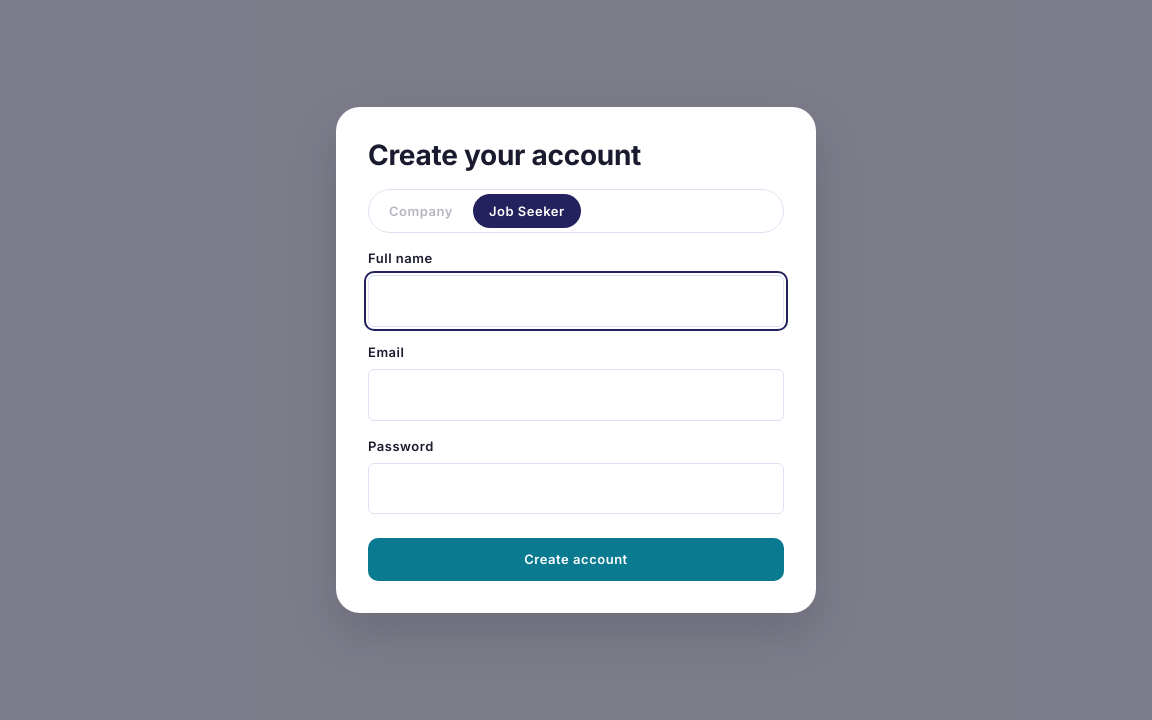
Scenario: ApplyGateModal › maps a server 400 errors entry onto the matching field
Type "Amara Diallo" into the field labelled "Full name". click: (576, 301)
box: [368,275,784,327]
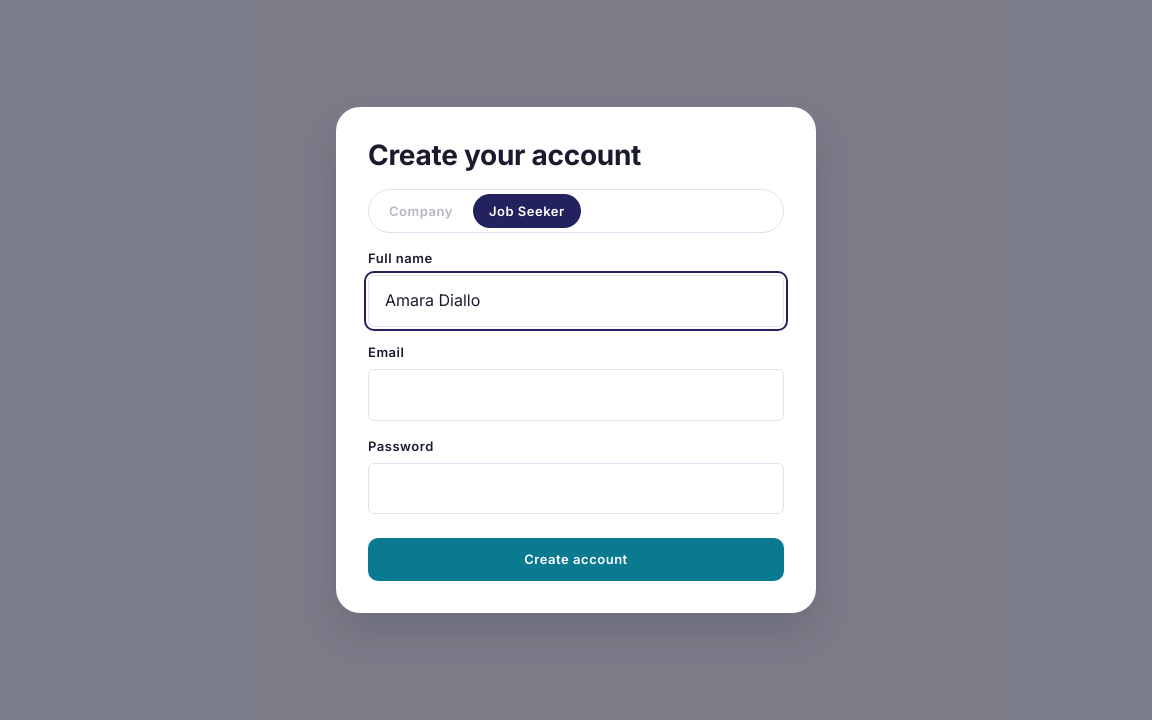
Type "blocked@seeker.test" into the field labelled "Email". click: (576, 395)
box: [368,369,784,421]
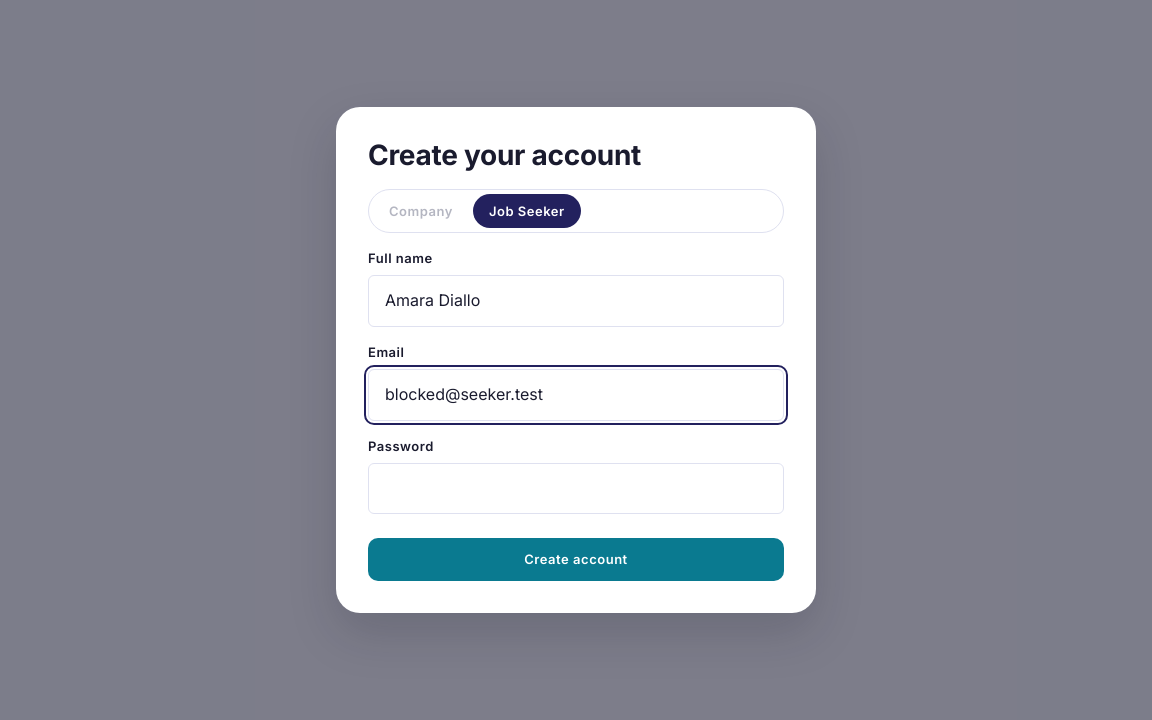
Type "password123" into the password field labelled "Password". click: (576, 489)
box: [368,463,784,514]
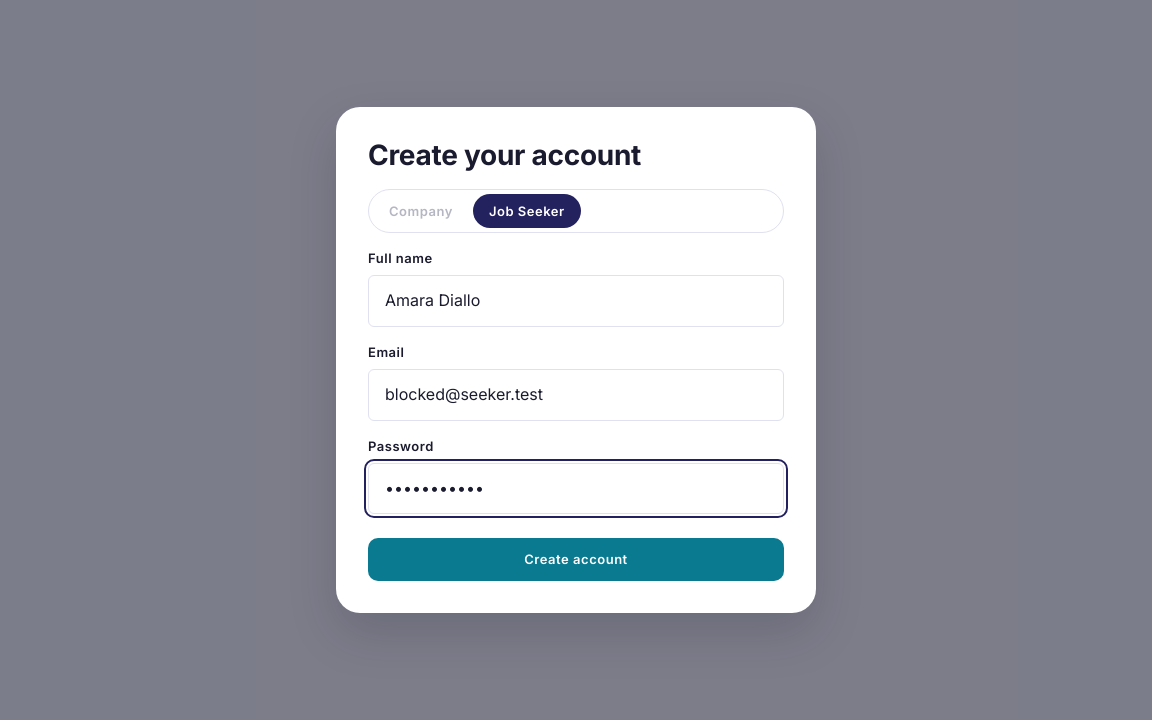
Click the button "Create account". click: (576, 560)
box: [368,538,784,581]
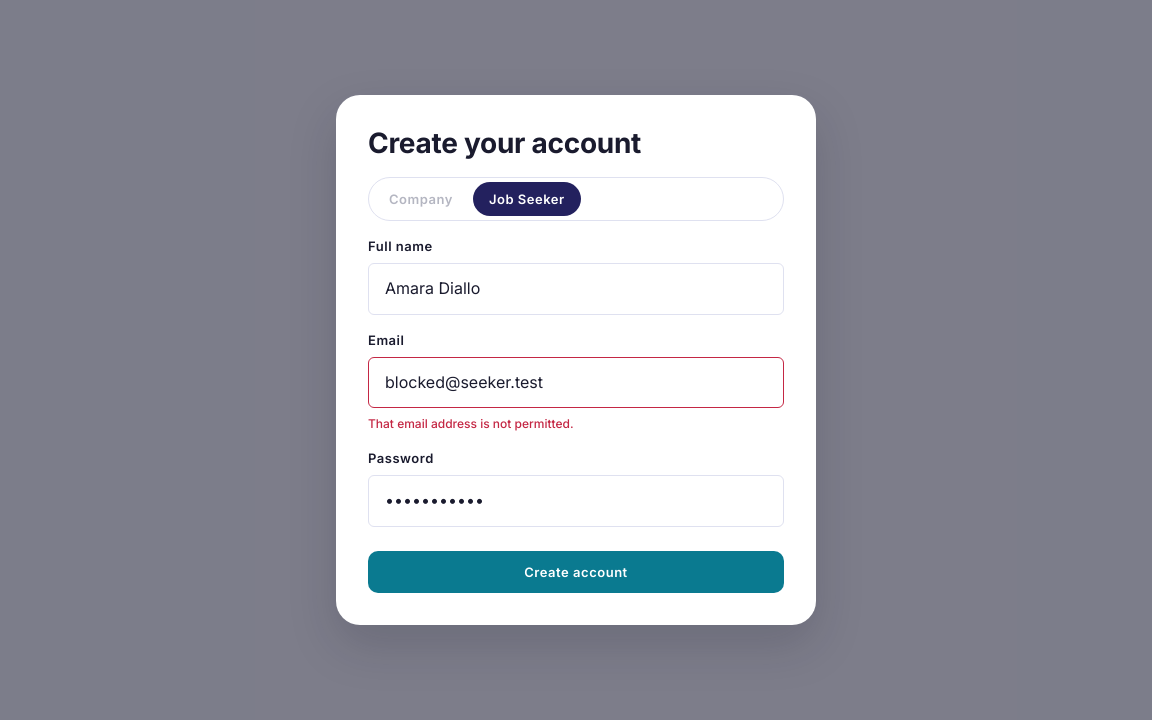
expect the text "That email address is not permitted." is shown: met, box [368,416,574,431]
